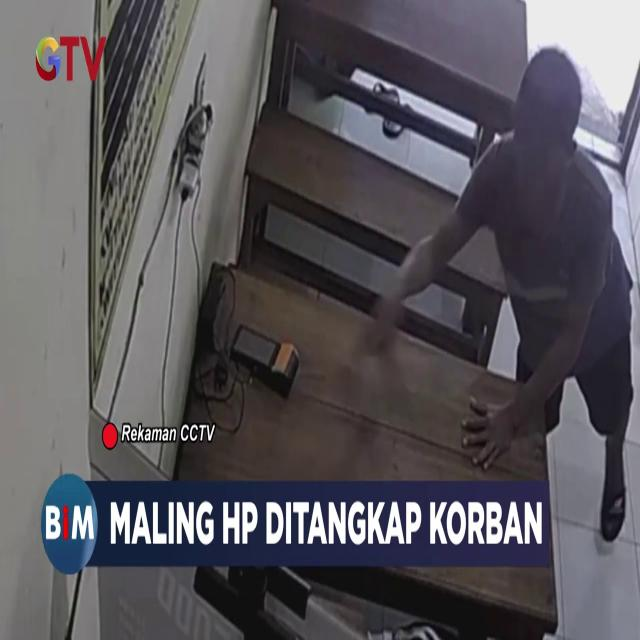pencurian: (329, 39, 640, 464)
